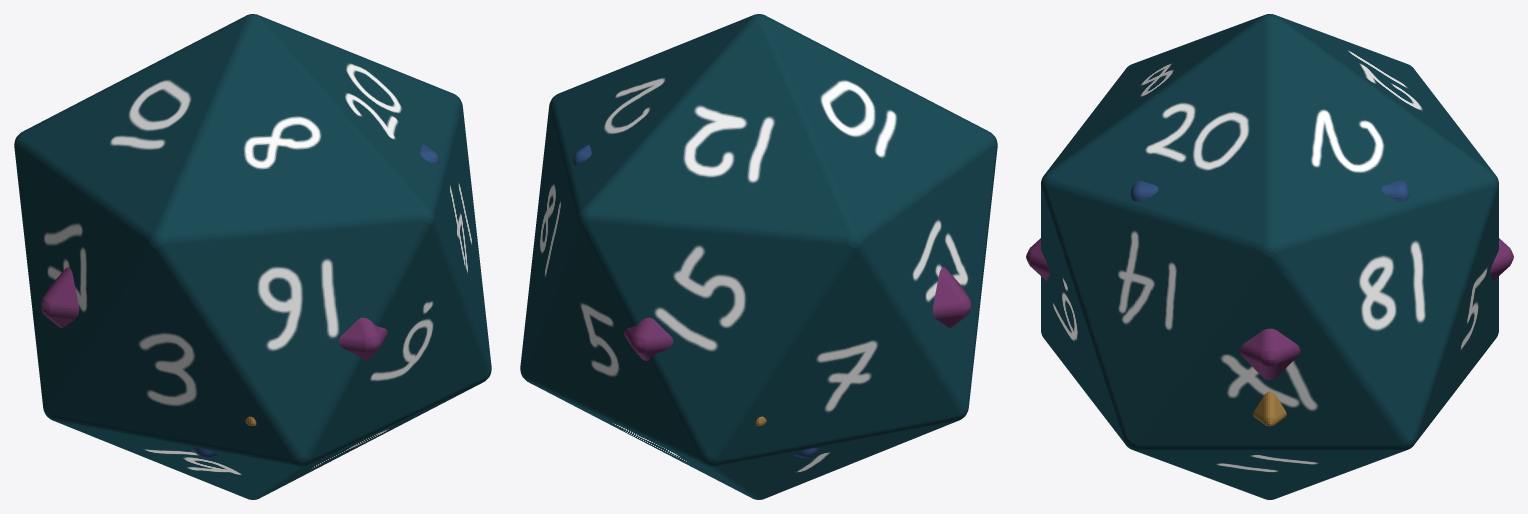
Rendered from devdice.glb.
3 views of the same model, side by side, from view 1: azimuth 30°, elevation 25°; view 2: azimuth 150°, elevation 25°; view 3: azimuth 270°, elevation 25° (orthographic).
Visible parts, largest first — view 1: d20_model, d8_model; view 2: d20_model, d8_model; view 3: d20_model, d8_model, d6_model, d4_model.
Part boxes in pixels (box(x1,y1,x2,y2)): d20_model: box(14, 14, 491, 499); d8_model: box(40, 267, 387, 360); d20_model: box(520, 14, 997, 499); d8_model: box(624, 267, 971, 360); d20_model: box(1041, 14, 1498, 499); d8_model: box(1026, 238, 1513, 380); d6_model: box(1130, 181, 1409, 201); d4_model: box(1253, 391, 1286, 426).
Size of what is drawn, in the model's own units: 0.3852 by 0.4208 by 0.3852.
7 materials, 7 textured.
